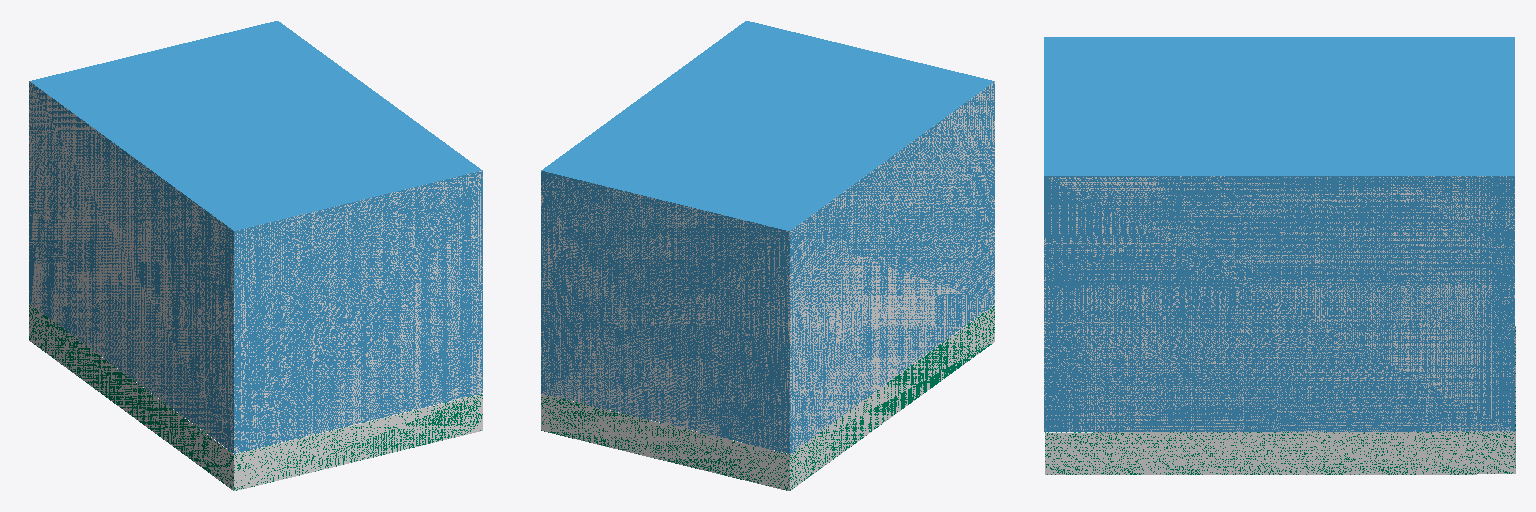
robot.urdf — right-pull-door:
<?xml version="1.0" ?>
<robot name="right-pull-door">
	<link name="base"/>
	<link name="link_0">
		<visual name="out-frame">
			<origin xyz="0 0 0"/>
			<geometry>
				<mesh filename="texture_dae/frame.dae" scale="0.6 0.6 0.6"/>
			</geometry>
		</visual>
		<collision>
			<origin xyz="0 0 0"/>
			<geometry>
				<mesh filename="texture_dae/frame.dae" scale="0.6 0.6 0.6"/>
			</geometry>
		</collision>
	</link>
	<joint name="joint_0" type="fixed">
		<origin rpy="1.570796326794897 0 -1.570796326794897" xyz="0 0 0"/>
		<child link="link_0"/>
		<parent link="base"/>
	</joint>
	<link name="link_1">
		<visual name="surf-board">
			<origin xyz="0.3503097487362929 0 0"/>
			<geometry>
				<mesh filename="texture_dae/board.dae" scale="0.6 0.6 0.6"/>
			</geometry>
		</visual>
		<collision>
			<origin xyz="0.3503097487362929 0 0"/>
			<geometry>
				<mesh filename="texture_dae/board.dae" scale="0.6 0.6 0.6"/>
			</geometry>
		</collision>
	</link>
	<joint name="joint_1" type="revolute">
		<origin xyz="-0.3503097487362929 0 0"/>
		<axis xyz="0 -1 0"/>
		<child link="link_1"/>
		<parent link="link_0"/>
		<limit lower="0" upper="1.5079644737231006"/>
	</joint>
	<link name="link_2">
		<visual name="handle">
			<origin xyz="0 0 0"/>
			<geometry>
				<mesh filename="texture_dae/9961214.dae" scale="0.7 0.7 0.7"/>
			</geometry>
		</visual>
		<collision>
			<origin xyz="0 0 0"/>
			<geometry>
				<mesh filename="texture_dae/9961214.dae" scale="0.7 0.7 0.7"/>
			</geometry>
		</collision>
	</link>
	<joint name="joint_2" type="revolute">
		<origin xyz="0.3503097487362929 0 0.026499251048430975"/>
		<child link="link_2"/>
		<parent link="link_1"/>
		<axis xyz="0 0 1"/>
		<limit lower="0" upper="1.5079644737231006"/>
	</joint>
</robot>

--- Facts derived from the render (not from the file) ---
The picture shows the robot from 3 angles, left to right: view 1: azimuth 30°, elevation 25°; view 2: azimuth 150°, elevation 25°; view 3: azimuth 270°, elevation 25°; orthographic projection.
Robot: right-pull-door — 4 links, 3 joints (2 revolute, 1 fixed); root link base; default pose: every joint at zero.
Visible links, largest first — view 1: link_0, link_1; view 2: link_0, link_1; view 3: link_0, link_1.
Boxes of the visible links, bbox=[...] form: link_0: bbox=[29, 21, 482, 453]; link_1: bbox=[29, 304, 482, 490]; link_0: bbox=[541, 21, 994, 453]; link_1: bbox=[541, 305, 994, 490]; link_0: bbox=[1044, 37, 1514, 431]; link_1: bbox=[1045, 326, 1515, 474].
Size in the robot's own frame: 0.4902 by 0.7007 by 0.492 metres.
Meshes: 3 distinct files referenced, 3 mesh visuals loaded (3 Collada DAE).
